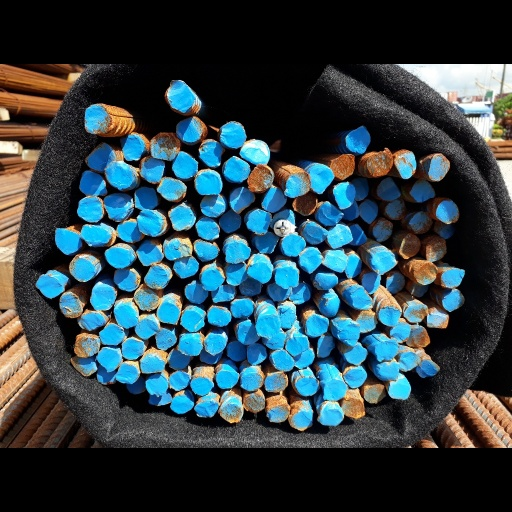dipstick: (166, 79, 196, 113), (105, 160, 137, 190), (85, 142, 117, 172), (104, 193, 135, 221), (241, 138, 271, 166), (80, 224, 115, 248), (150, 133, 180, 161), (118, 131, 145, 162), (344, 125, 372, 154), (66, 255, 96, 282), (163, 232, 193, 259), (223, 154, 251, 182), (54, 227, 81, 256), (76, 195, 105, 222), (84, 104, 110, 134), (175, 116, 205, 142), (138, 155, 164, 185), (218, 120, 245, 148), (284, 170, 311, 198), (307, 167, 334, 195), (134, 283, 161, 311), (171, 151, 198, 179), (168, 204, 195, 232), (137, 209, 165, 236), (195, 169, 224, 195), (91, 280, 116, 310), (157, 176, 187, 201), (105, 245, 136, 269), (144, 263, 172, 289), (135, 238, 163, 264), (79, 170, 107, 196), (369, 148, 394, 177), (332, 181, 357, 210), (301, 219, 330, 244), (114, 299, 138, 329), (34, 275, 64, 299), (247, 164, 273, 191), (328, 154, 355, 180), (261, 185, 288, 211), (369, 250, 397, 275), (58, 290, 83, 318), (249, 253, 272, 283), (177, 330, 203, 356), (156, 299, 182, 325), (95, 346, 120, 373), (316, 202, 344, 226), (200, 139, 223, 168), (114, 219, 143, 242), (77, 310, 108, 331), (376, 176, 402, 201), (411, 261, 437, 286), (230, 186, 255, 212), (133, 185, 158, 211), (436, 198, 460, 225), (112, 267, 140, 290), (428, 153, 450, 182), (70, 355, 99, 377), (317, 401, 342, 426), (247, 209, 272, 234), (409, 179, 435, 203), (135, 313, 159, 339), (173, 255, 199, 279), (74, 334, 101, 357), (424, 236, 447, 262), (256, 315, 282, 338), (236, 319, 259, 345), (202, 265, 225, 291), (195, 217, 221, 240), (193, 239, 220, 261), (199, 194, 226, 216), (224, 241, 251, 263), (98, 323, 126, 344), (292, 194, 320, 215), (409, 211, 433, 235), (349, 285, 373, 309), (275, 265, 299, 289), (272, 209, 296, 233), (299, 248, 322, 273), (374, 339, 399, 362), (219, 400, 244, 423), (269, 348, 294, 371), (114, 362, 139, 385), (327, 224, 353, 246), (303, 315, 329, 337), (396, 151, 416, 179), (398, 234, 421, 258), (408, 325, 431, 349), (323, 249, 346, 273), (341, 396, 365, 419), (358, 199, 380, 224), (337, 322, 359, 347), (144, 373, 169, 395), (167, 348, 192, 370), (183, 281, 208, 303), (267, 279, 292, 301), (294, 375, 320, 396), (262, 329, 288, 350), (378, 304, 401, 327), (441, 288, 464, 311), (355, 310, 378, 333), (255, 230, 278, 253), (323, 378, 347, 400), (264, 371, 288, 393), (285, 334, 309, 356), (343, 344, 367, 366), (282, 234, 306, 256), (403, 303, 428, 324), (427, 307, 450, 329), (168, 369, 191, 391), (155, 326, 178, 348), (288, 282, 311, 304), (219, 210, 241, 233), (319, 293, 340, 317), (208, 306, 232, 327), (384, 200, 409, 220), (387, 381, 412, 401), (229, 297, 254, 317), (212, 283, 237, 303), (139, 354, 165, 373), (291, 409, 313, 431), (204, 332, 226, 354), (363, 384, 386, 405), (344, 367, 367, 388), (171, 392, 194, 413), (190, 375, 213, 396), (276, 306, 297, 329), (237, 275, 261, 295), (345, 251, 362, 279), (226, 340, 247, 362), (122, 338, 144, 359), (385, 271, 405, 294), (194, 398, 217, 418), (390, 319, 409, 343), (215, 370, 239, 389), (441, 269, 463, 289), (376, 360, 398, 380), (243, 392, 266, 411), (241, 372, 264, 391), (266, 404, 291, 421), (318, 333, 335, 358), (247, 344, 267, 365), (95, 365, 116, 385), (349, 223, 368, 245), (361, 273, 380, 294), (418, 359, 439, 378), (399, 352, 420, 371), (315, 272, 338, 289), (352, 177, 368, 201), (294, 349, 314, 367), (148, 392, 172, 405), (199, 350, 218, 365), (127, 380, 145, 394)
